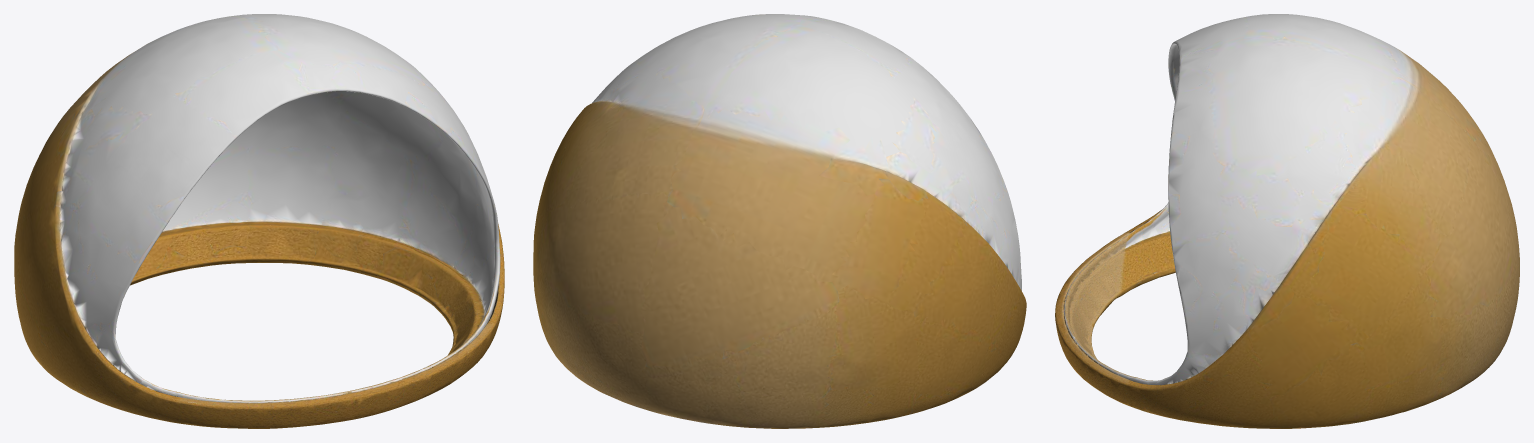
The model's file is log_pose_dome.glb.
3 renders of one model, left to right at view 1: azimuth 30°, elevation 25°; view 2: azimuth 150°, elevation 25°; view 3: azimuth 270°, elevation 25°, orthographic.
Bounding box in the file's own units: 1.9 × 1.3 × 1.78.
Materials: 1 (1 with a texture image).
